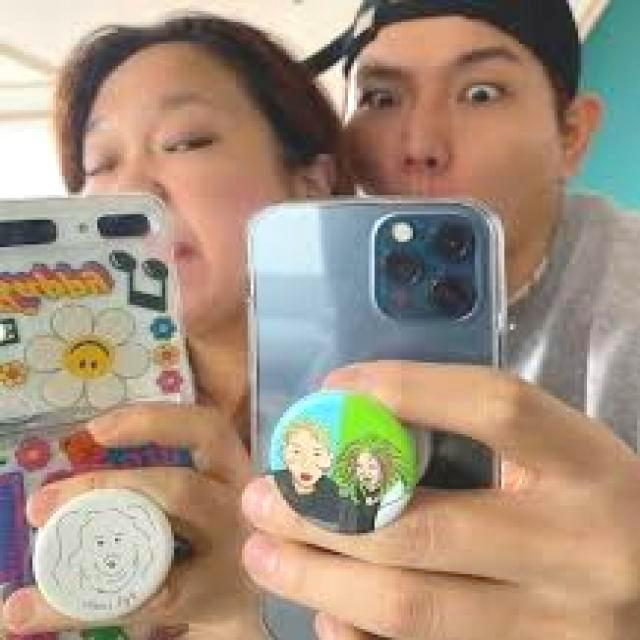lens: (372, 205, 493, 328), (1, 210, 154, 248)
phone: (248, 192, 508, 640), (0, 188, 184, 618)
